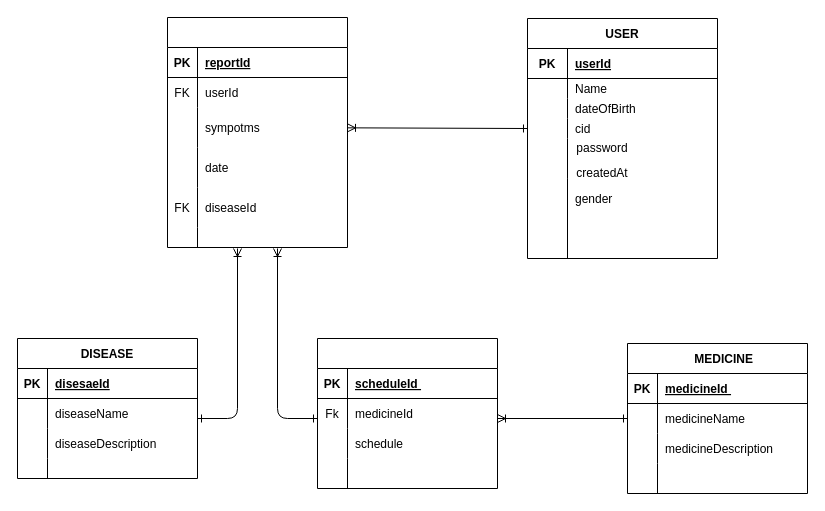
The diagram is 825 pixels wide and 511 high, and some of its shapes have lost their labels. The shapes that lost their labels are listed below. From the top down, each one's box as (x1, y1, x2, y2) in pixels, then its label:
(166, 16, 348, 248): MEDICAL REPORT
(316, 338, 498, 488): MEDICINESCHEDULE
